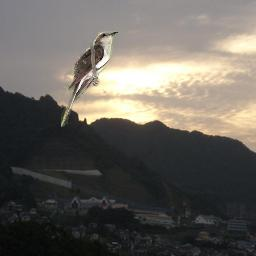Cuckoo: (61, 31, 118, 127)
